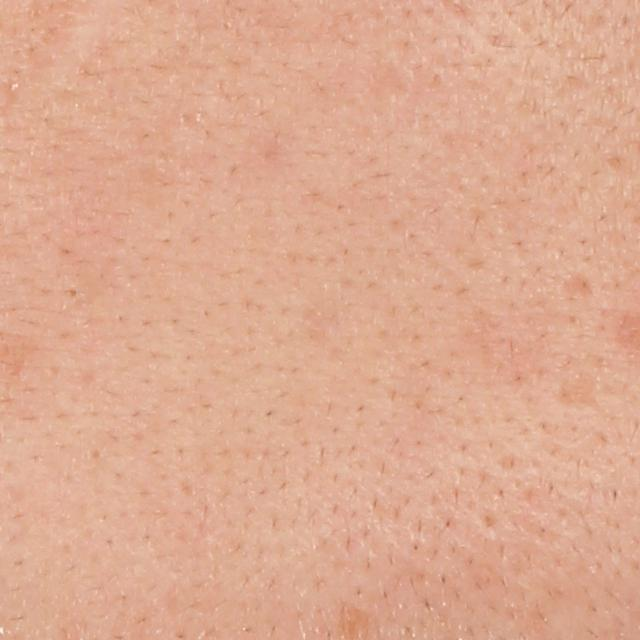atrophic_scar: (551, 372, 604, 414), (561, 271, 595, 302)
comedo: (64, 285, 85, 303)
